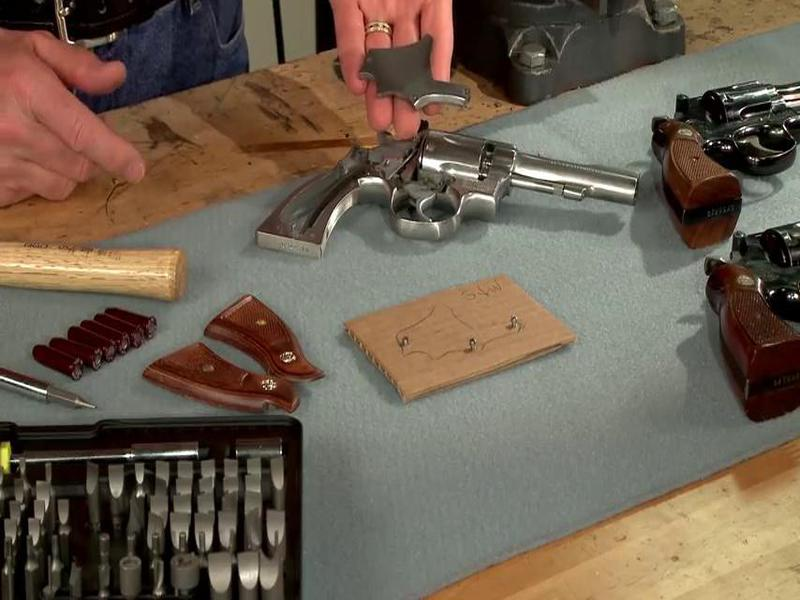Revolver: (239, 91, 658, 311)
